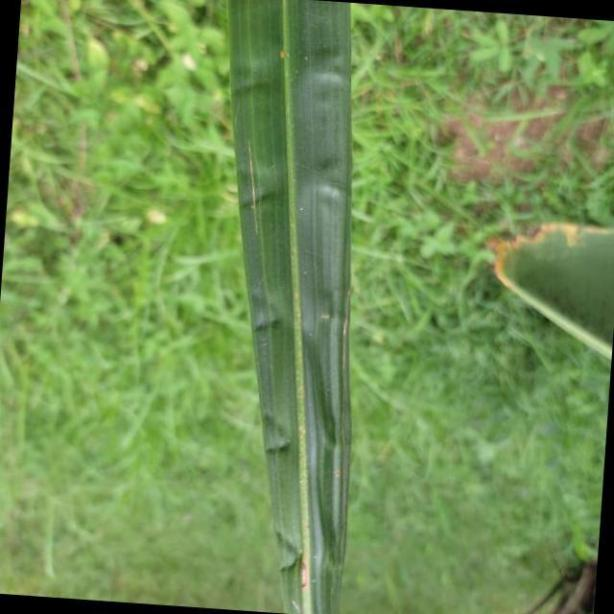Boron: (224, 1, 352, 614)
